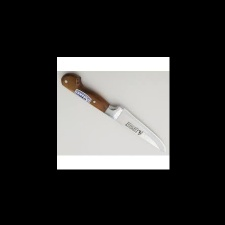k1: (107, 102, 168, 154)
